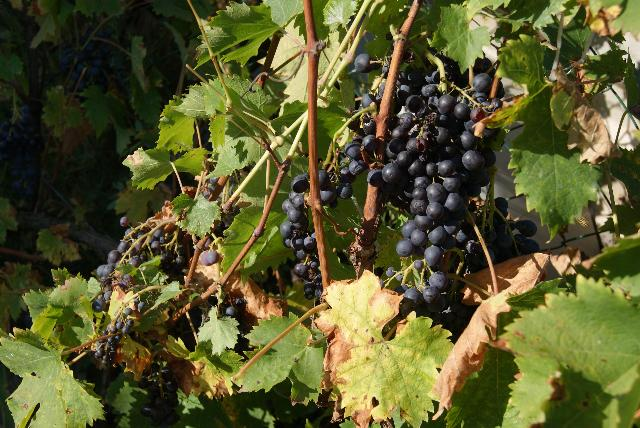grapes: (380, 79, 495, 339), (96, 220, 186, 302), (279, 172, 324, 300), (484, 198, 540, 264), (138, 362, 180, 428), (316, 165, 356, 210), (465, 239, 489, 271)
